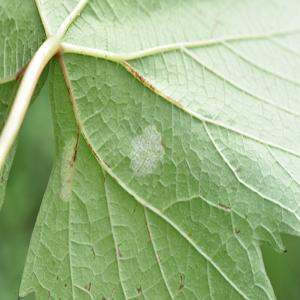Folha: (0, 0, 300, 300)
Fungo: (128, 122, 165, 179), (59, 126, 79, 202), (178, 273, 185, 291), (218, 200, 230, 210), (84, 281, 91, 292), (117, 243, 122, 258), (91, 246, 95, 260), (136, 286, 142, 294), (234, 228, 240, 235), (178, 283, 184, 290), (17, 291, 22, 299), (0, 176, 4, 184), (187, 232, 192, 238), (283, 248, 287, 253)
